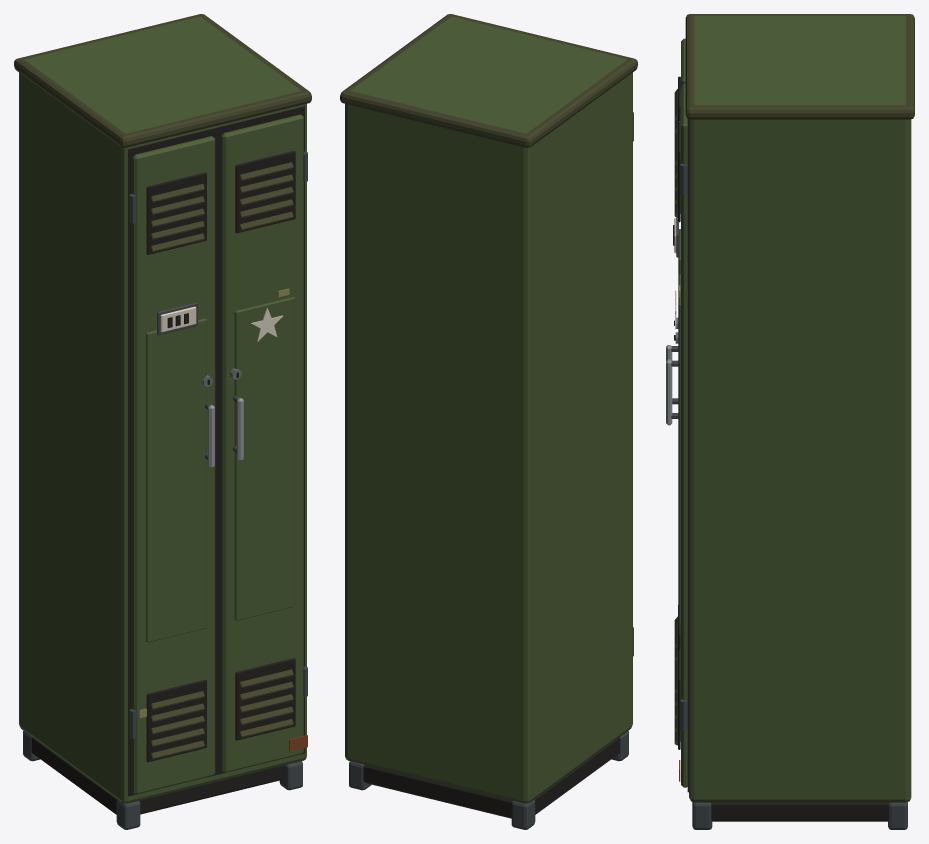
File: locker_metal_armeyskiy_idle.glb
The picture shows the model from 3 angles, left to right: view 1: azimuth 30°, elevation 25°; view 2: azimuth 150°, elevation 25°; view 3: azimuth 270°, elevation 25°; orthographic projection. The views are drawn at different scales.
Parts seen in each view (by area): view 1: locker_metal_armeyskiy_idle; view 2: locker_metal_armeyskiy_idle; view 3: locker_metal_armeyskiy_idle.
Boxes of the visible parts, x1=… form: locker_metal_armeyskiy_idle: x1=14, y1=14, x2=311, y2=829; locker_metal_armeyskiy_idle: x1=340, y1=14, x2=637, y2=829; locker_metal_armeyskiy_idle: x1=666, y1=14, x2=914, y2=829.
Bounding box in the file's own units: 0.516 × 1.8 × 0.56.
Materials: 1 (1 with a texture image).
